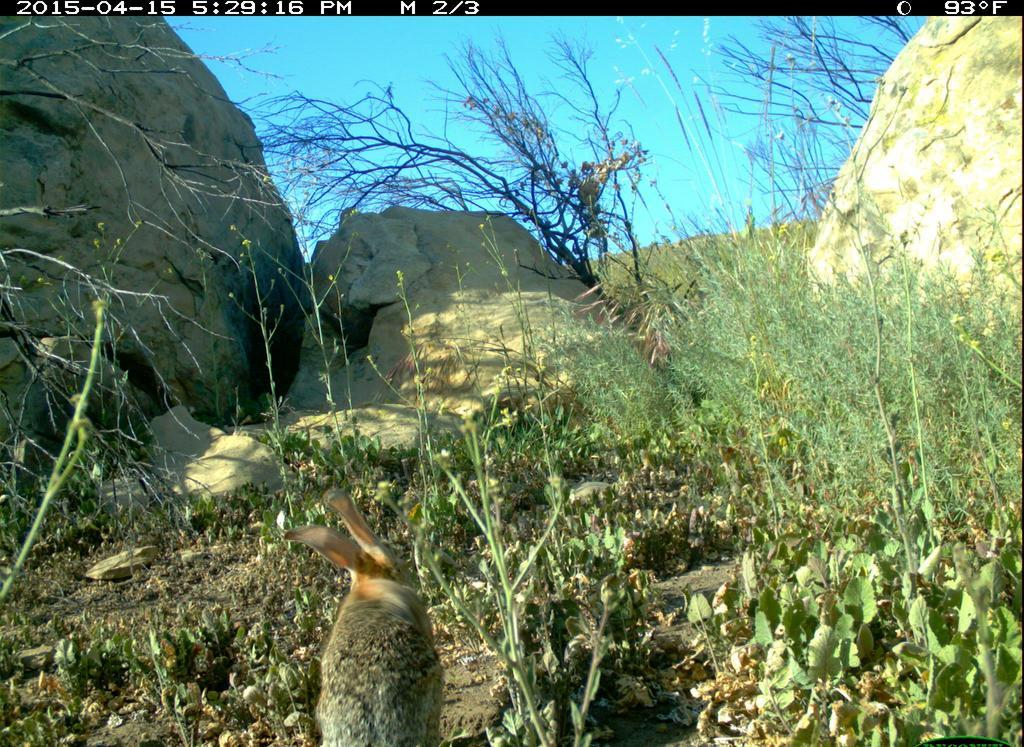rabbit: (274, 488, 461, 745)
